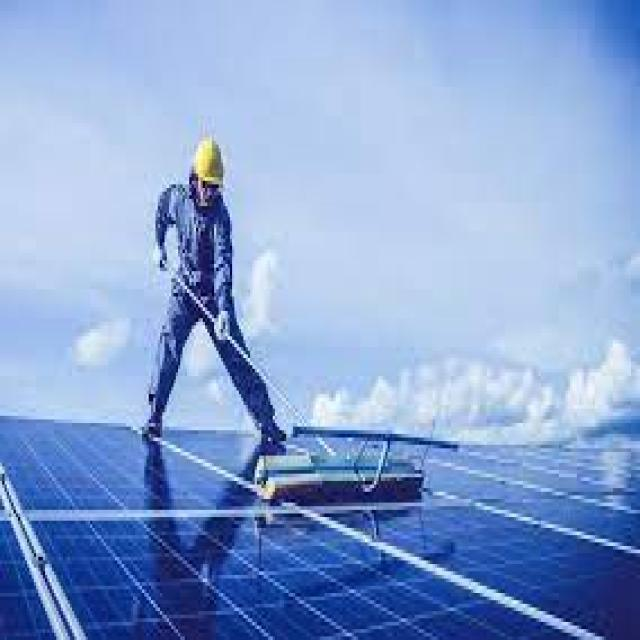clean-solar-panel: (0, 417, 640, 638)
